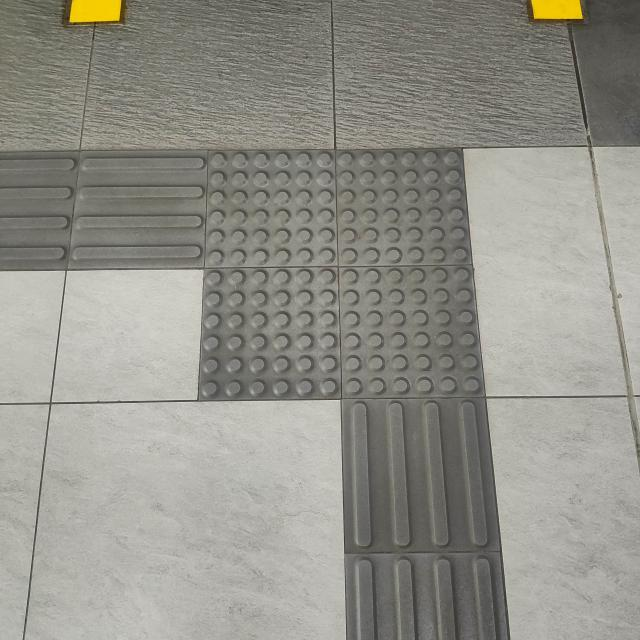kiri: (0, 94, 567, 503)
